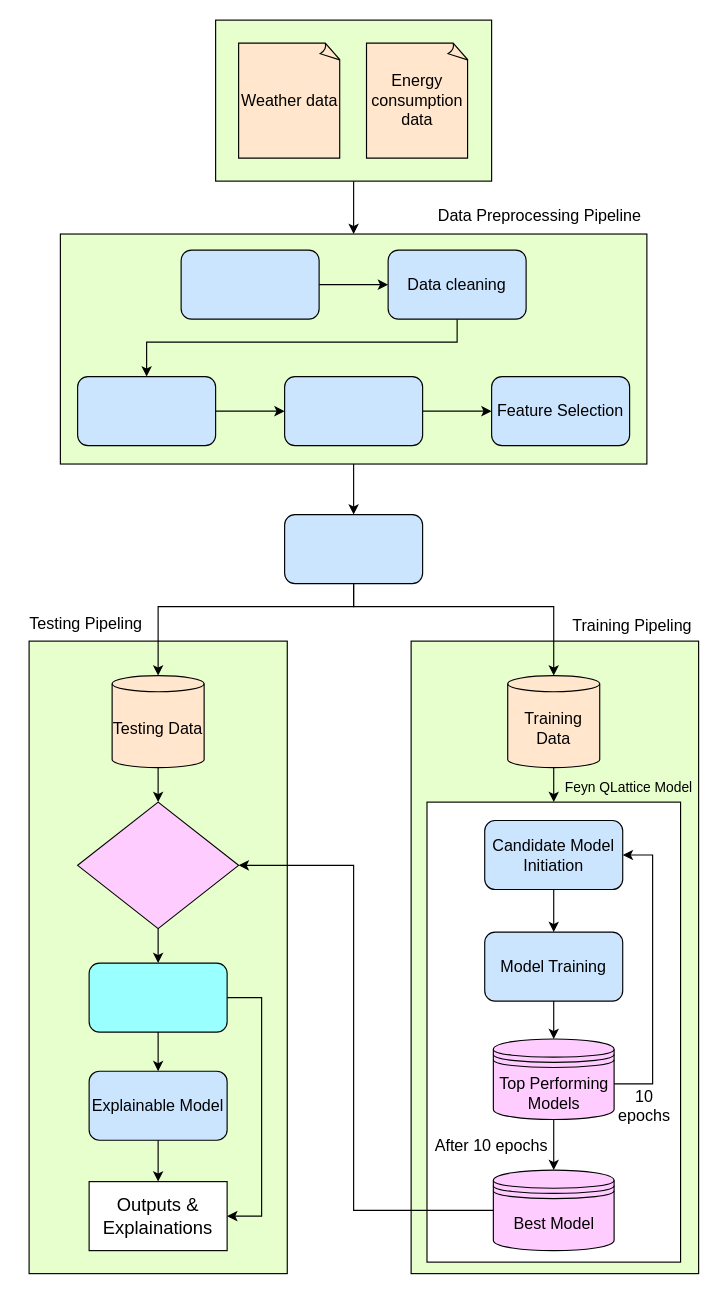
Image size: 719x1294. Some labels were removed from this diagram. Here are the shapes that lost their labels. From the top down, the centre of each, then its label:
the point at 249,284: Data Compilation
the point at 146,410: Data Aggregation
the point at 353,410: Feature Engineering
the point at 353,548: Train-test Splitting
the point at 157,865: Model
the point at 157,997: Predictions
